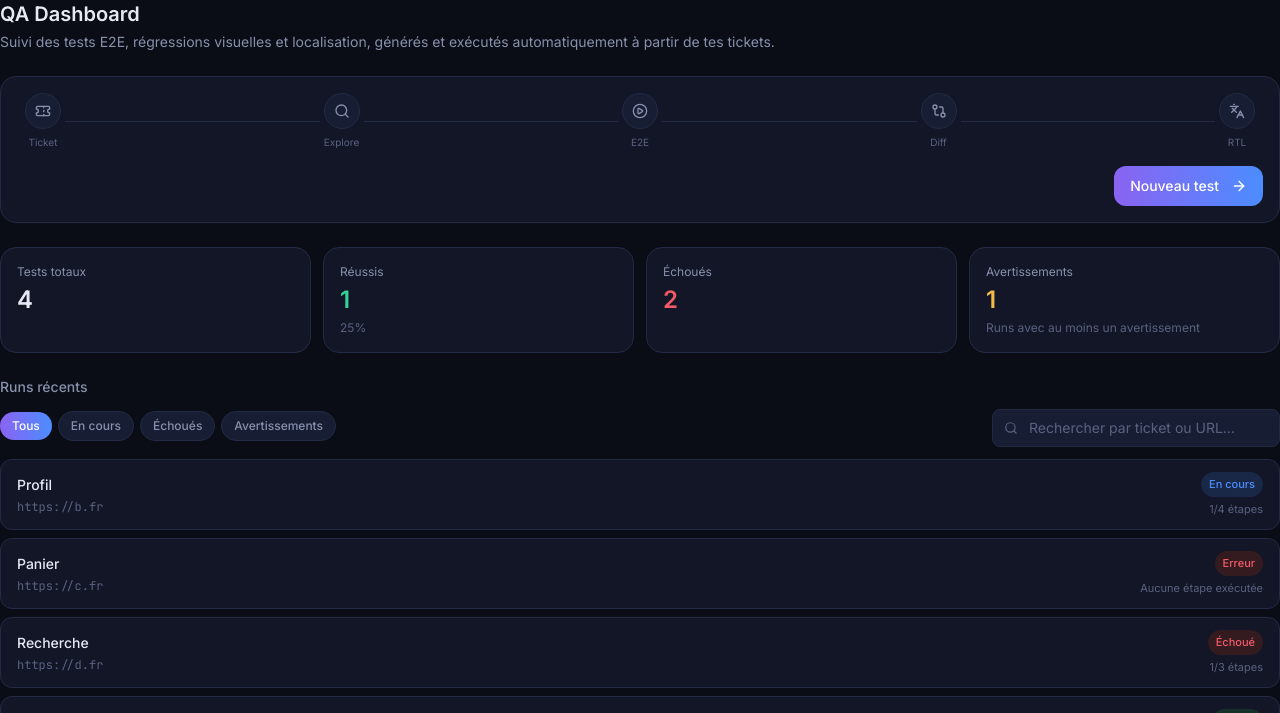
Scenario: Dashboard › recherche par ticket ou URL, et message si rien ne correspond
The width and height of the screenshot is (1280, 713).
In the field with placeholder "Rechercher par ticket ou URL...": (1136, 428) [992, 409, 1279, 447], type "c.fr"
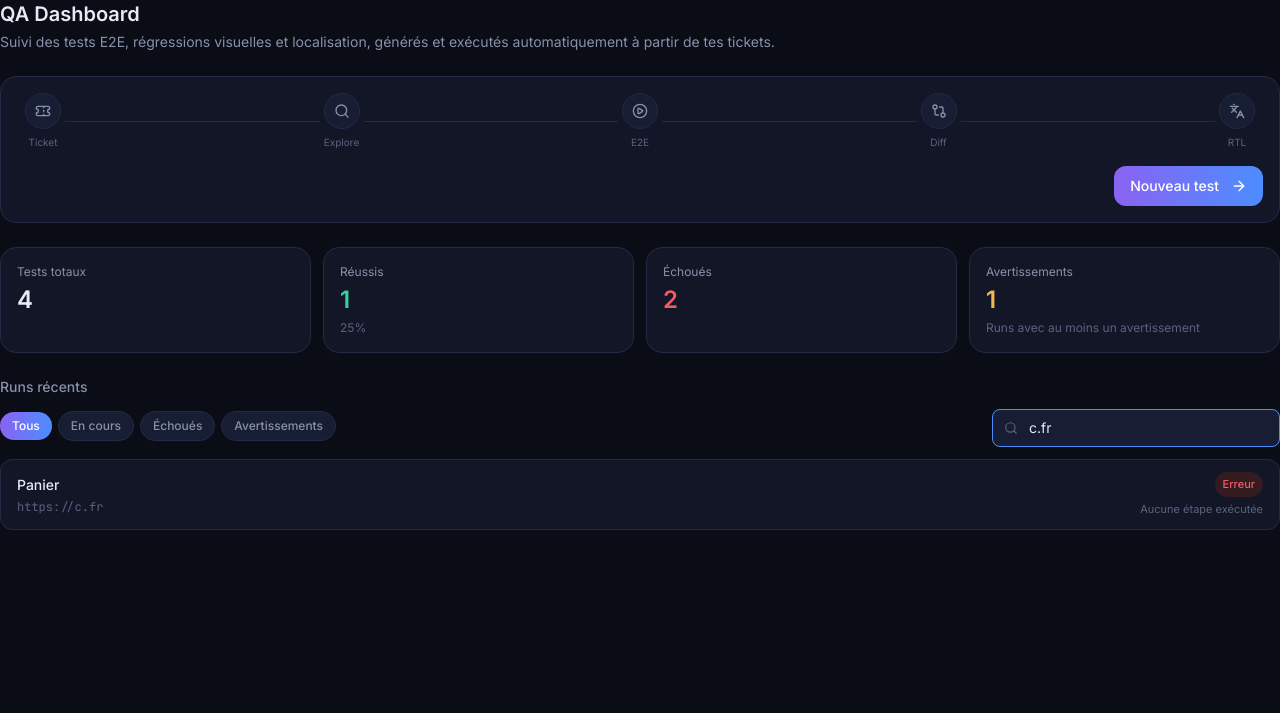
expect the text "Panier" is shown: met, box [17, 476, 60, 492]
Replace the text in the field with placeholder "Rechercher par ticket ou URL..." with "zzz": (1136, 428) [992, 409, 1279, 447]
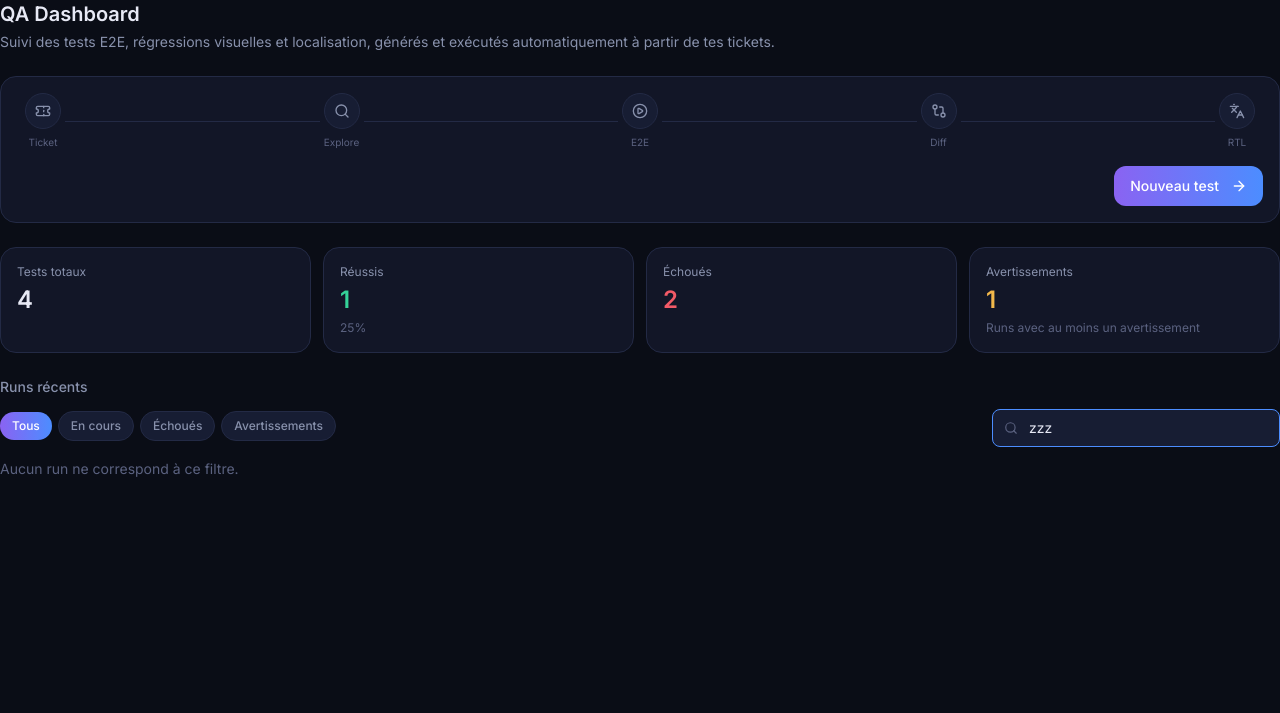
expect the text "Aucun run ne correspond à ce filtre." is shown: met, box [0, 460, 239, 477]
